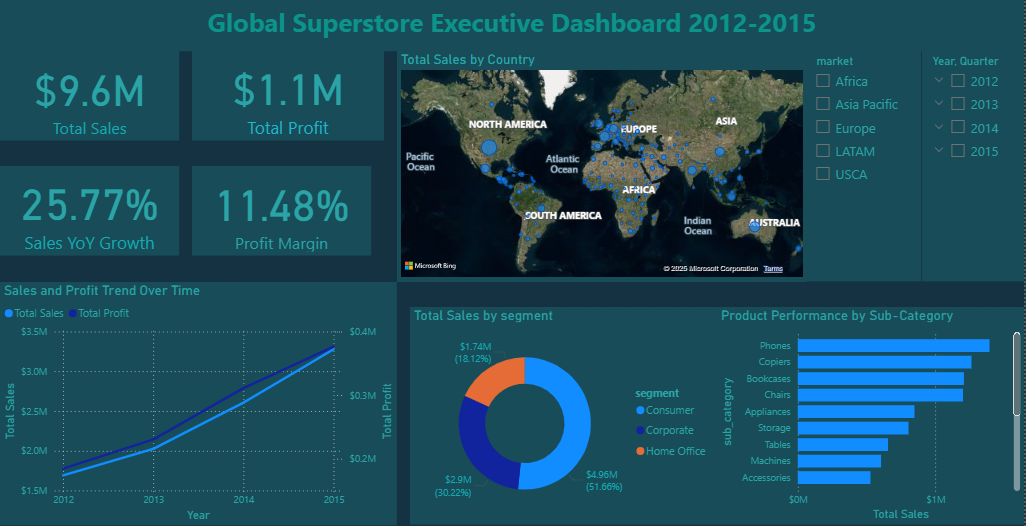

What the dashboard file says about the page in this screenshot:
{"tool":"powerbi","page":{"name":"Executive Summary","canvas":[1280,720],"ordinal":0},"visuals":[{"type":"card","fields":{"Values":["Sales_Fact.Total Sales"]},"box":[0,64,224,112],"z":0},{"type":"card","fields":{"Values":["Sales_Fact.Total Profit"]},"box":[240,64,240,112],"z":1000},{"type":"card","fields":{"Values":["Sales_Fact.Profit Margin"]},"box":[240,208,224,112],"z":2000},{"type":"card","fields":{"Values":["Sales_Fact.Sales YoY Growth"]},"box":[0,208,224,112],"z":3000},{"type":"lineChart","title":"Sales and Profit Trend Over Time","fields":{"Category":["Calendar.Year"],"Y":["Sales_Fact.Total Sales"],"Y2":["Sales_Fact.Total Profit"]},"box":[0,352,496,304],"z":4000},{"type":"map","title":"Total Sales by Country","fields":{"Category":["Dim_Geography.country"],"Size":["Sales_Fact.Total Sales"]},"box":[496,64,512,288],"z":5000},{"type":"donutChart","fields":{"Category":["Dim_Customer.segment"],"Y":["Sales_Fact.Total Sales"]},"box":[512,384,384,272],"z":6000},{"type":"clusteredBarChart","title":"Product Performance by Sub-Category","fields":{"Category":["Dim_Product.sub_category"],"Y":["Sales_Fact.Total Sales"]},"box":[896,384,384,272],"z":7000},{"type":"slicer","fields":{"Values":["Dim_Geography.market"]},"box":[1008,64,144,288],"z":8000},{"type":"slicer","fields":{"Values":["Calendar.Year","Calendar.Quarter"]},"box":[1152,64,128,288],"z":9000},{"type":"textbox","box":[0,0,1280,64],"z":10000}]}

Visuals, with their boxes on the page's 1280x720 design canvas (x1, y1, x2, y2). These are canvas units, not pixel positions in the 1026x526 screenshot, which may show the page scaled, cropped or inside an application window:
card - Sales_Fact.Total Sales: detection(0, 64, 224, 176)
card - Sales_Fact.Total Profit: detection(240, 64, 480, 176)
card - Sales_Fact.Profit Margin: detection(240, 208, 464, 320)
card - Sales_Fact.Sales YoY Growth: detection(0, 208, 224, 320)
"Sales and Profit Trend Over Time" lineChart: detection(0, 352, 496, 656)
"Total Sales by Country" map: detection(496, 64, 1008, 352)
donutChart - Dim_Customer.segment x Sales_Fact.Total Sales: detection(512, 384, 896, 656)
"Product Performance by Sub-Category" clusteredBarChart: detection(896, 384, 1280, 656)
slicer - Dim_Geography.market: detection(1008, 64, 1152, 352)
slicer - Calendar.Year x Calendar.Quarter: detection(1152, 64, 1280, 352)
textbox: detection(0, 0, 1280, 64)
